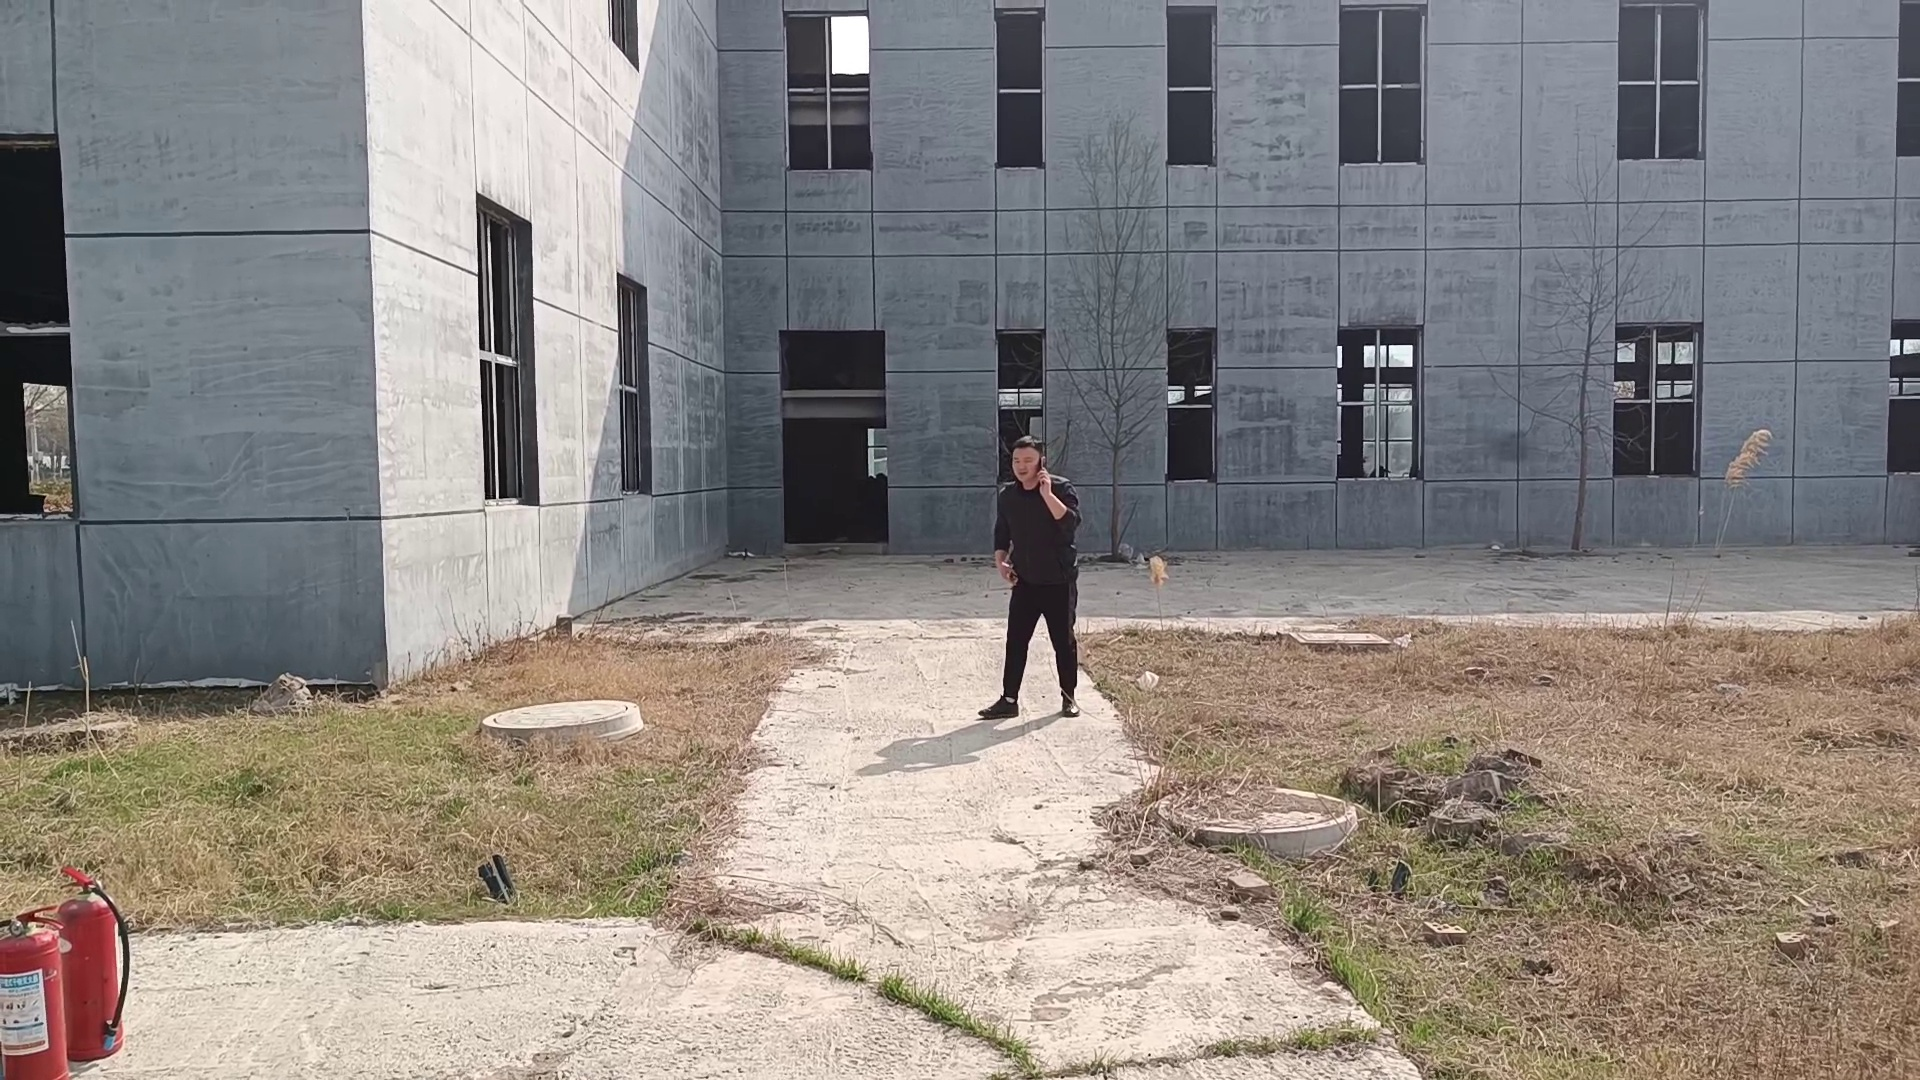phone: (1005, 430, 1054, 489)
